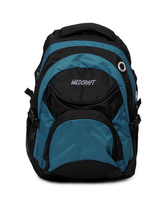bag: (20, 20, 143, 188)
